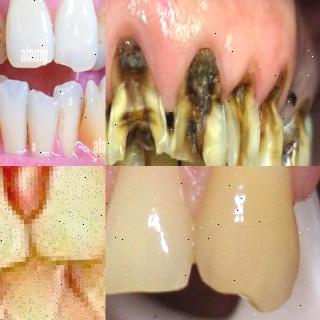Gum Swelling: (132, 17, 208, 109), (214, 23, 266, 103), (106, 21, 128, 103)
cavities: (114, 42, 160, 160), (187, 51, 227, 163), (228, 86, 258, 166), (284, 124, 308, 166)
maligned: (0, 77, 35, 145), (49, 78, 81, 146), (30, 88, 62, 154), (80, 86, 106, 161), (0, 71, 9, 143), (94, 7, 105, 65)
stains: (71, 88, 96, 142), (0, 22, 14, 62), (0, 98, 8, 154), (94, 4, 105, 44)
